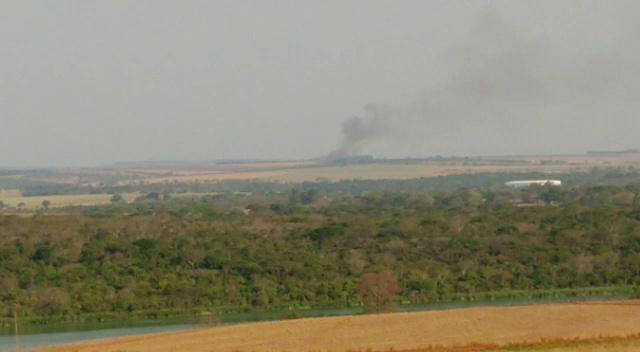smoke: (345, 116, 375, 142)
